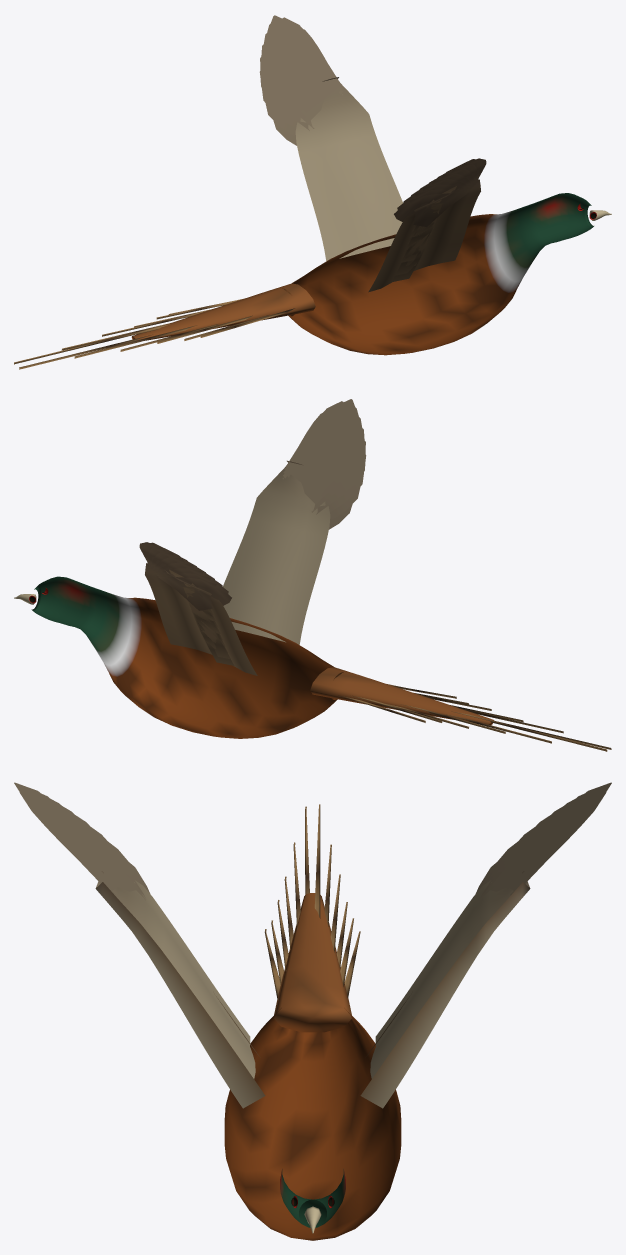
The model's file is SM_Bird_pheasant_flap0.glb.
3 renders of one model, top to bottom at view 1: azimuth 30°, elevation 25°; view 2: azimuth 150°, elevation 25°; view 3: azimuth 270°, elevation 25°, orthographic. The views are drawn at different scales.
Visible parts, largest first — view 1: SM_Bird_pheasant_flap0; view 2: SM_Bird_pheasant_flap0; view 3: SM_Bird_pheasant_flap0.
Boxes of the visible parts, x1,y1,x2,y2 form: SM_Bird_pheasant_flap0: (14,15,611,369); SM_Bird_pheasant_flap0: (14,399,611,751); SM_Bird_pheasant_flap0: (14,782,611,1240).
Size of the model in its own units: 0.8785 by 0.3801 by 0.5093.
